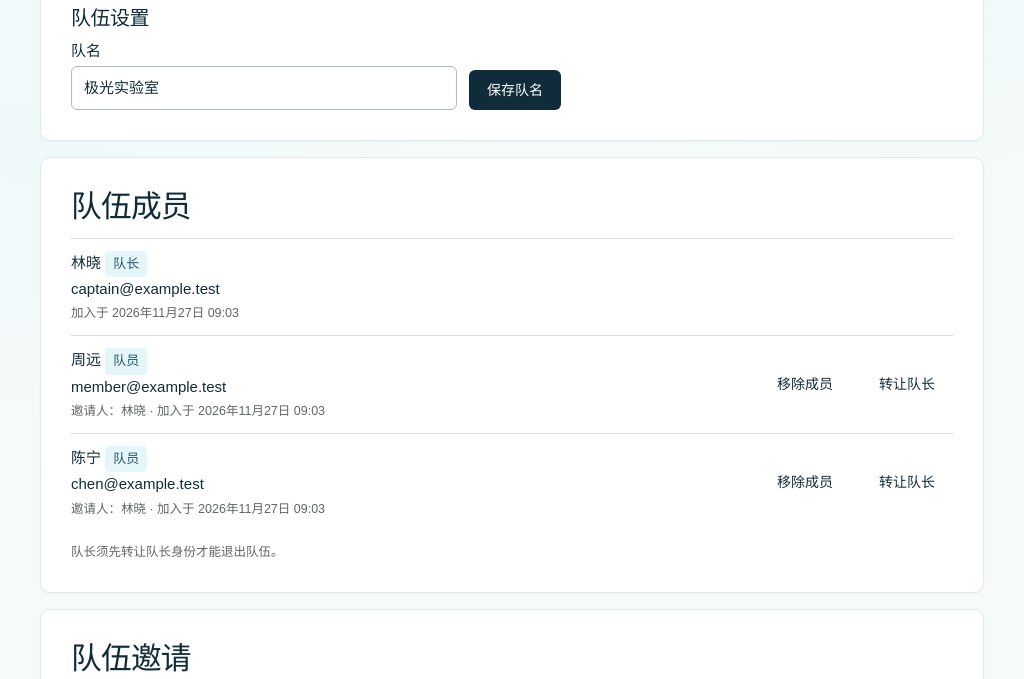
removes a member only after captain confirmation
(page scrolled)
Click the button "移除成员" in the row of "周远": coordinates (805, 385) x1=759 y1=365 x2=851 y2=405
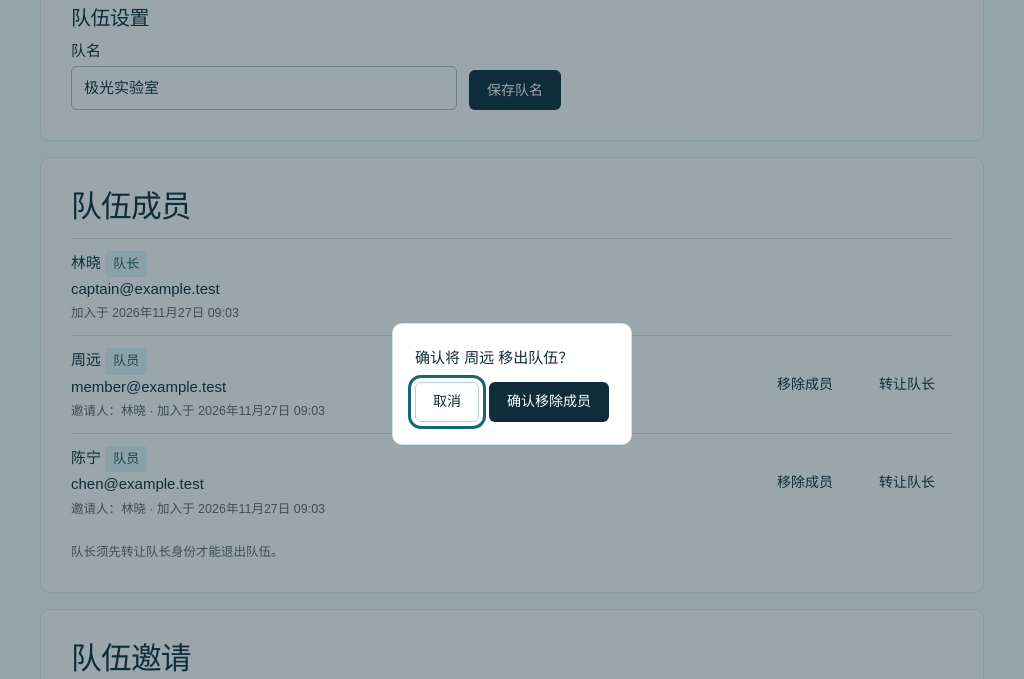
Click the 4th button: coordinates (549, 402) x1=489 y1=382 x2=609 y2=422
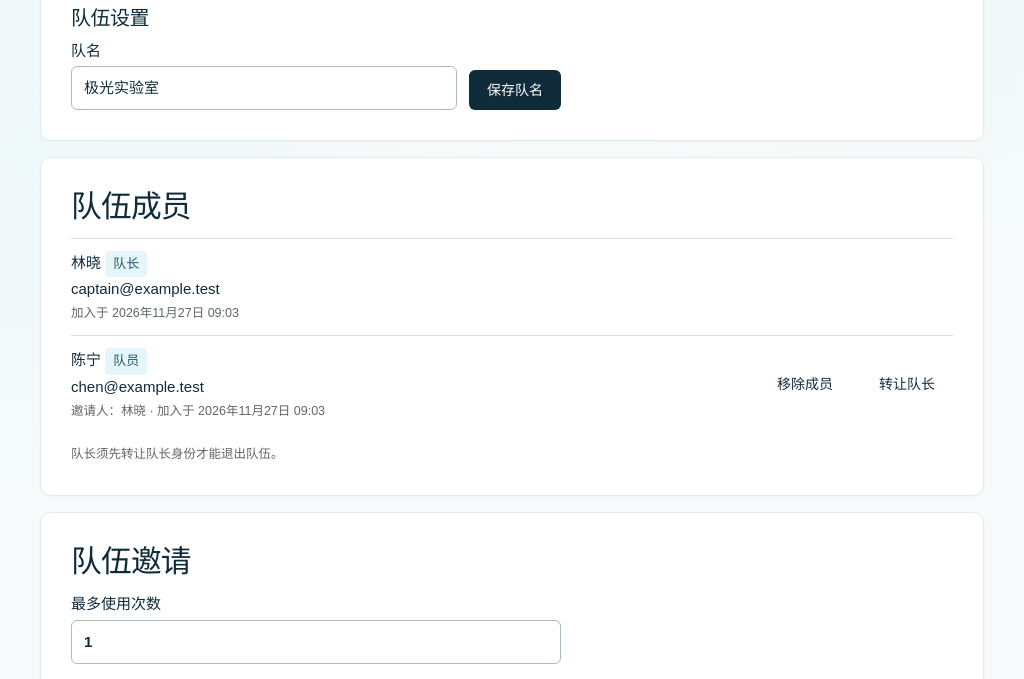
Now the text "周远" is gone
